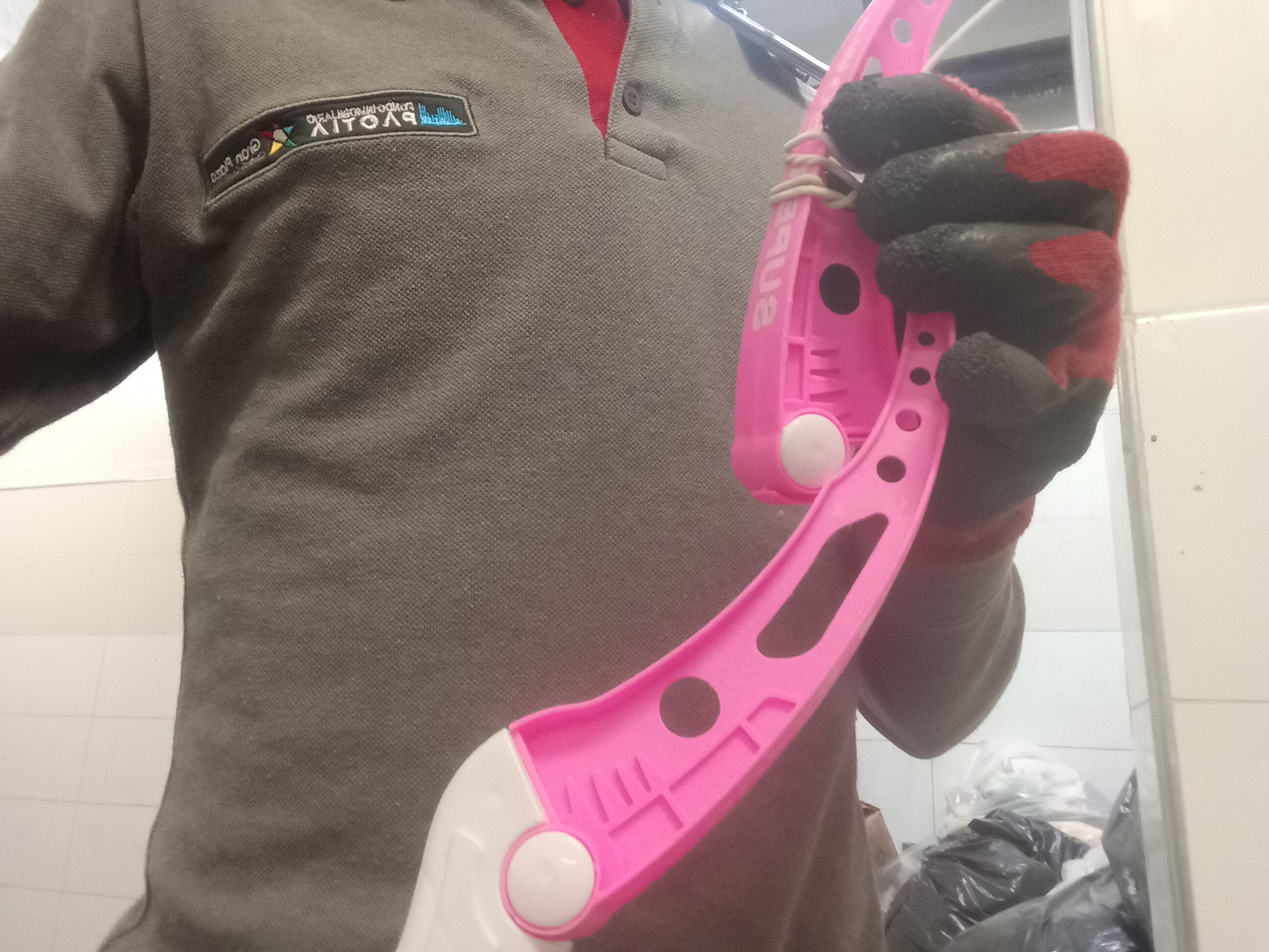Ordinario: (397, 0, 956, 952)
